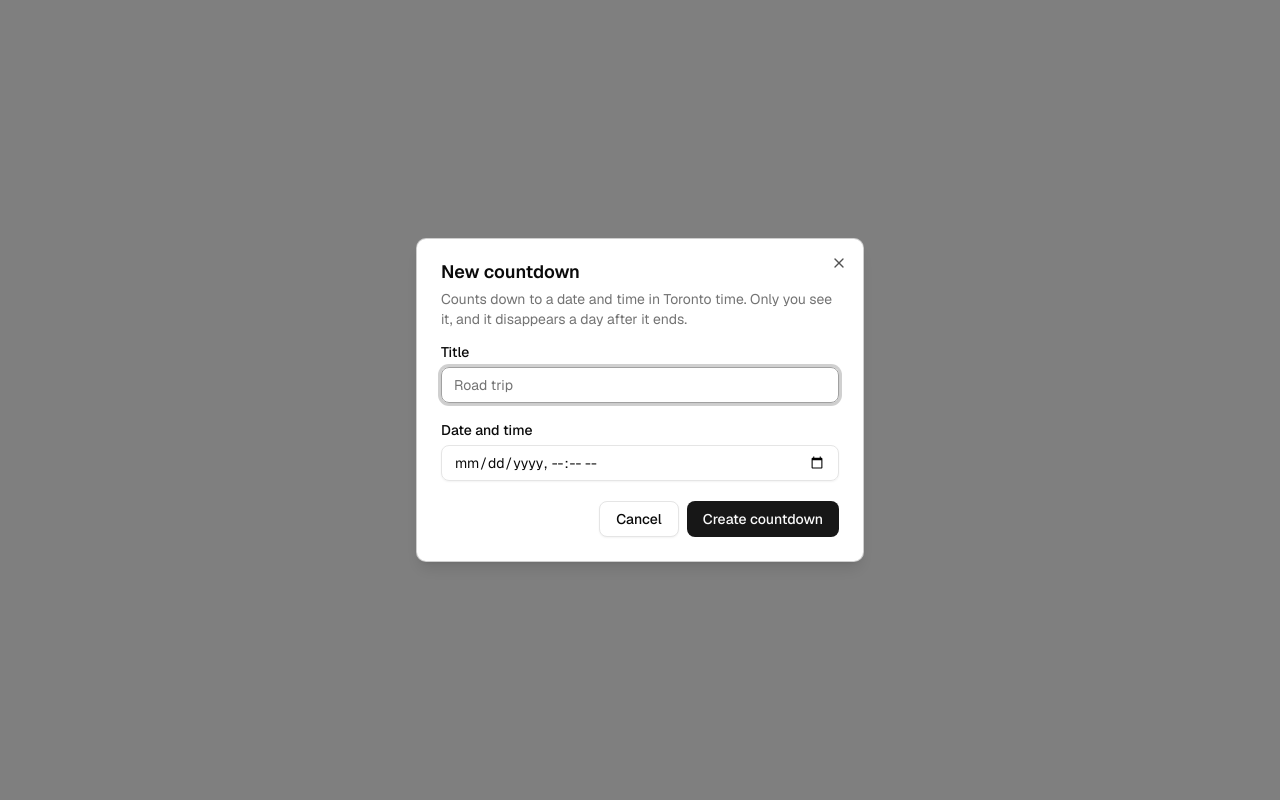
Test: CountdownDialog › asks for a date before saving
Type "Trip" into the field labelled "Title".
click(640, 385); type("Trip")  # box [441,367,839,403]
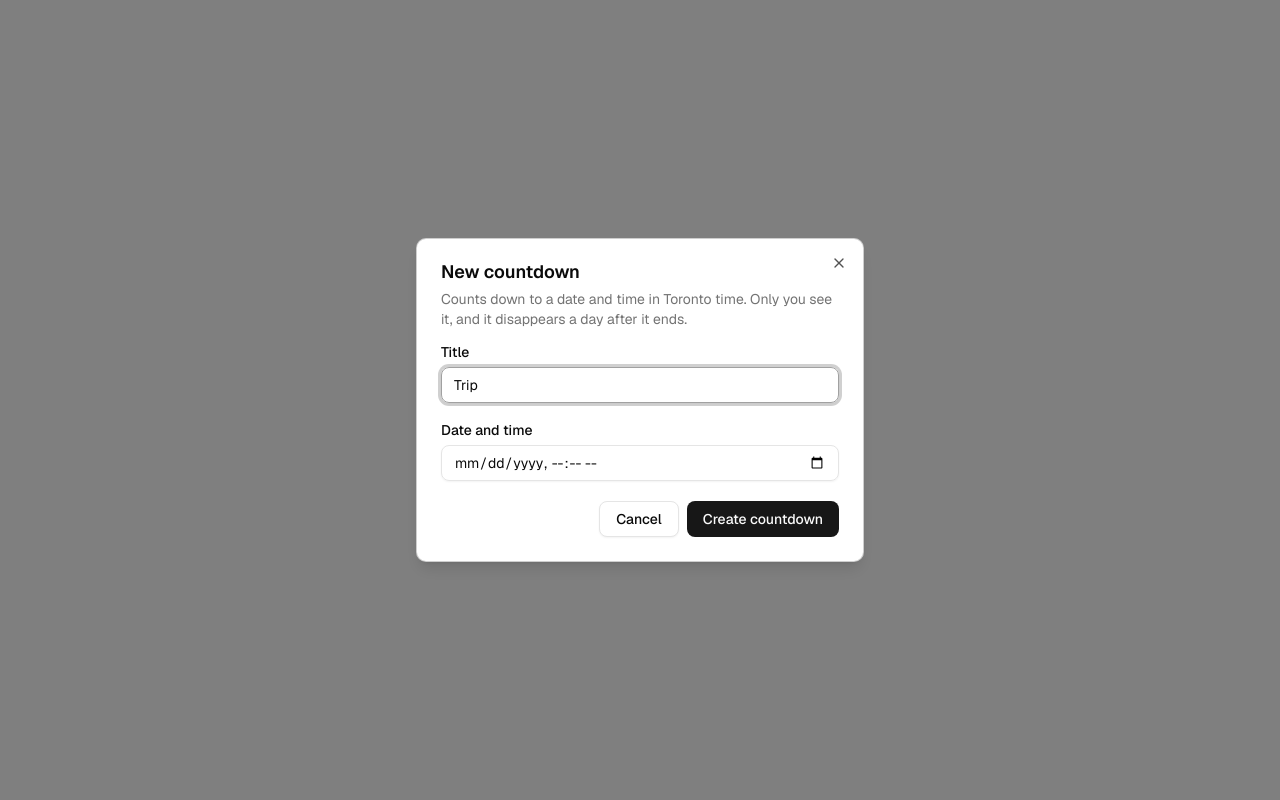
Click the button "Create countdown".
click(763, 519)  # box [687,501,839,537]
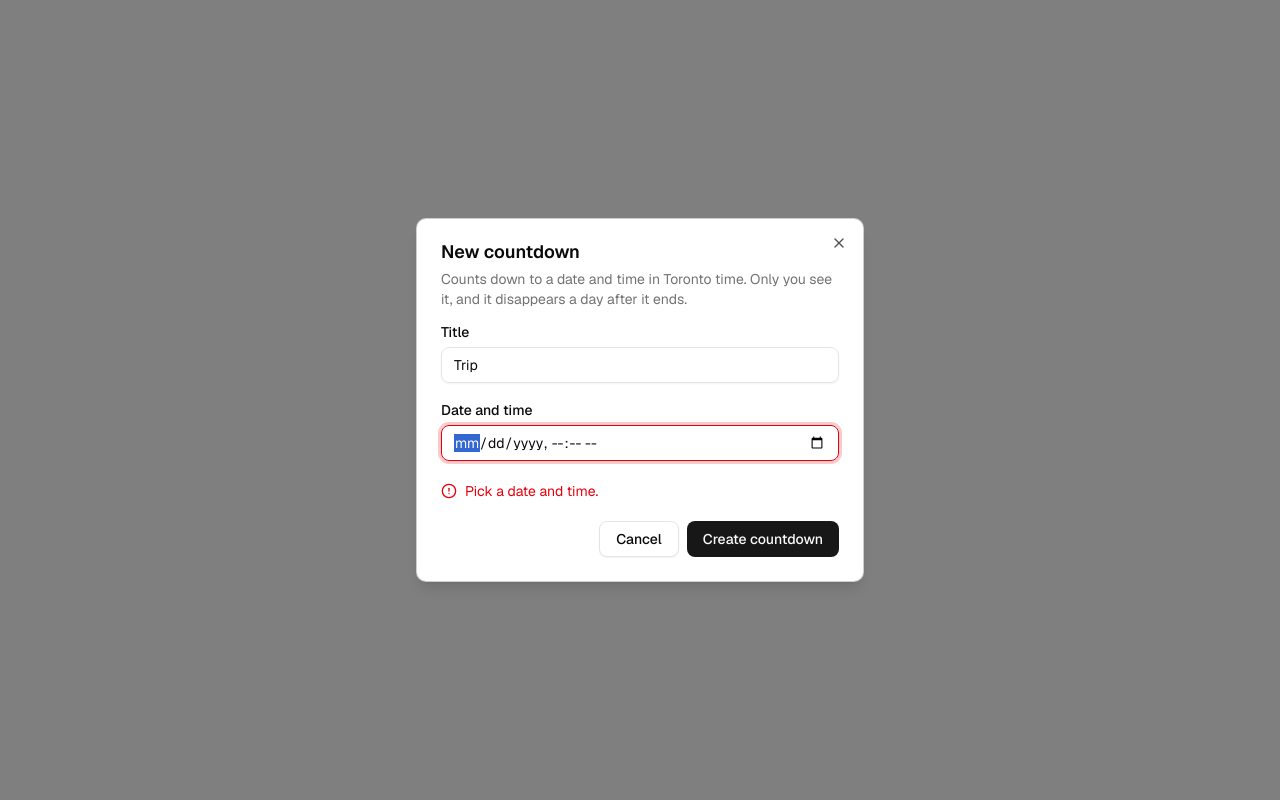
Result: the message reads "Pick a date and time." at [465,482,598,500]
